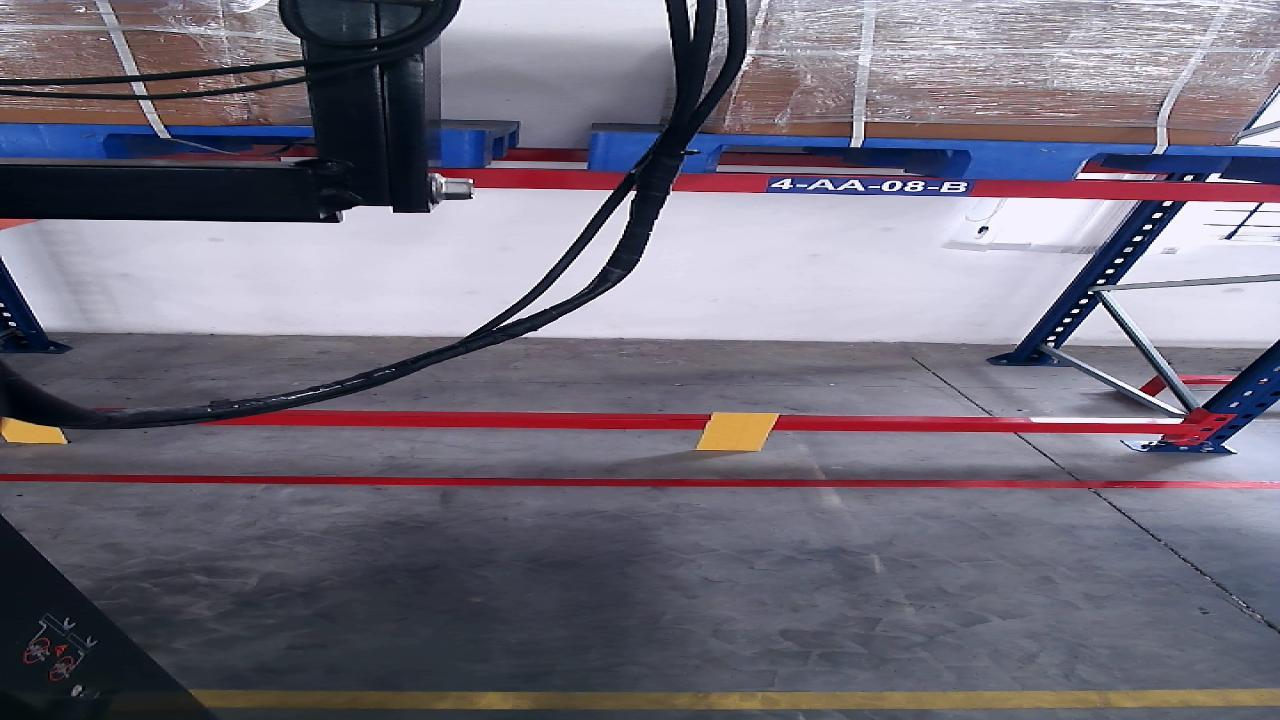h_rack: (441, 170, 1279, 201), (202, 416, 1190, 434)
orange_strip: (697, 413, 779, 451)
red_line: (2, 475, 1276, 489)
small_pallet: (589, 133, 1280, 185), (0, 122, 479, 168)
yellow_line: (188, 690, 1276, 707)
